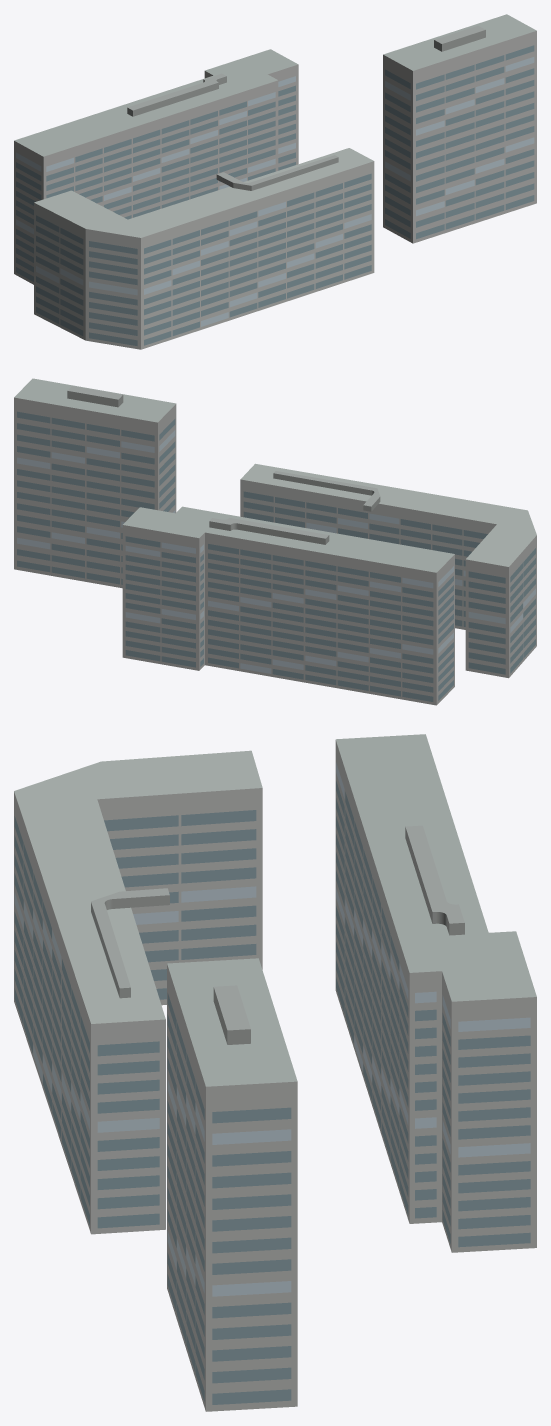
File: apt-a13586101.glb
The picture shows the model from 3 angles, top to bottom: view 1: azimuth 30°, elevation 25°; view 2: azimuth 150°, elevation 25°; view 3: azimuth 270°, elevation 25°; orthographic projection. The views are drawn at different scales.
Visible parts, largest first — view 1: apt-a13586101; view 2: apt-a13586101; view 3: apt-a13586101.
Boxes of the visible parts, left/top/right/bottom form: apt-a13586101: left=14, top=14, right=536, bottom=349; apt-a13586101: left=14, top=378, right=536, bottom=705; apt-a13586101: left=14, top=734, right=536, bottom=1411.
Size of the model in its own units: 136 by 47.81 by 66.71.
